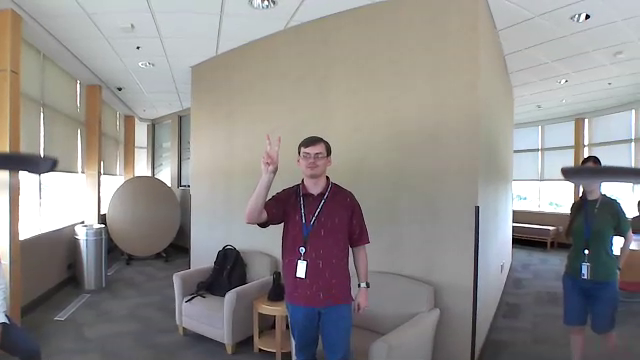peace: (251, 129, 284, 176)
